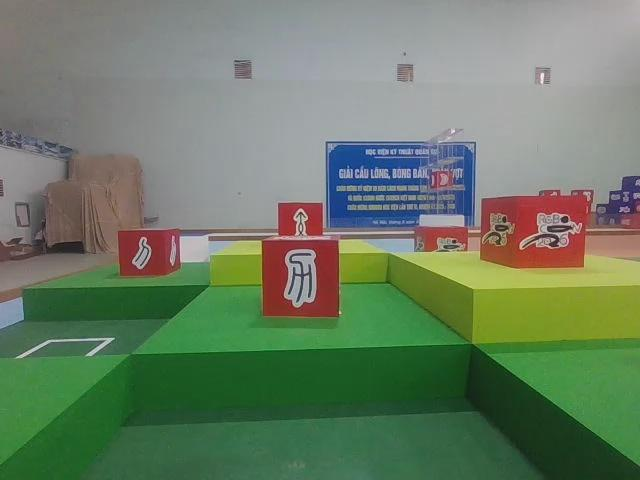R1: (478, 193, 591, 269)
R2 Fake: (260, 234, 343, 319)
R2 Real: (115, 227, 182, 279), (275, 200, 325, 243)
